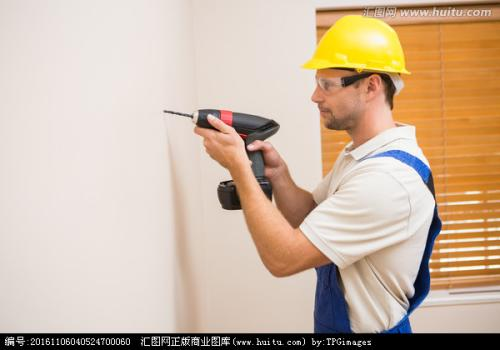hard-hat: (302, 14, 412, 75)
person: (193, 13, 443, 334)
